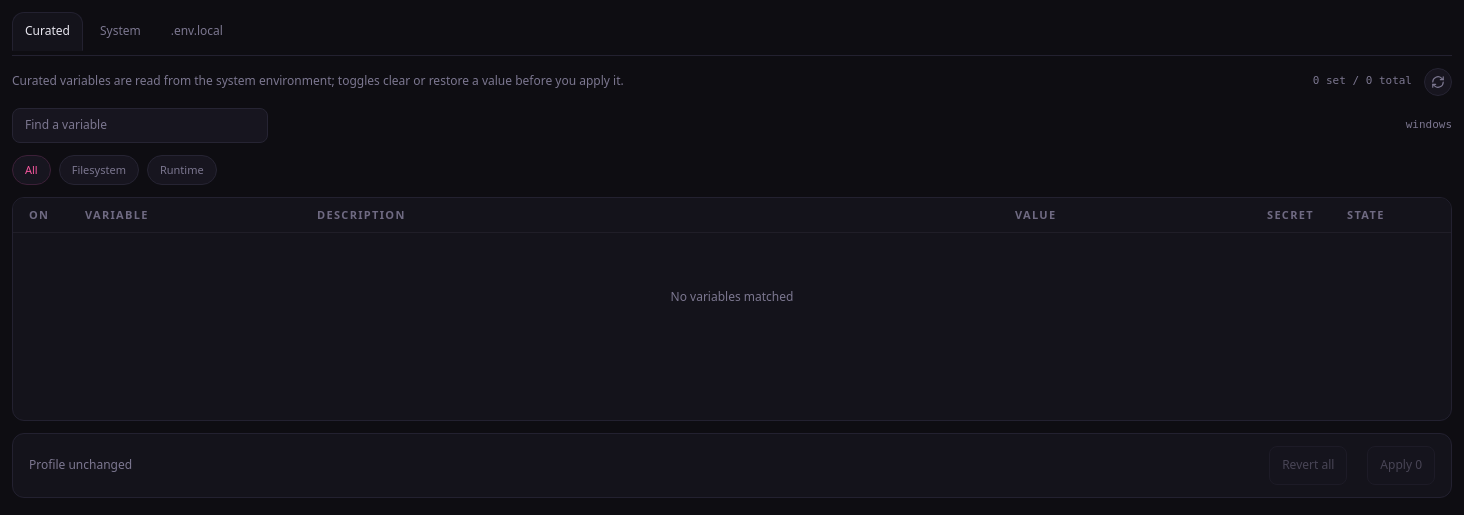
revealing one value › keeps the revealed value out of the query cache
Click the tab ".env.local": click(197, 31) x1=158 y1=12 x2=236 y2=51
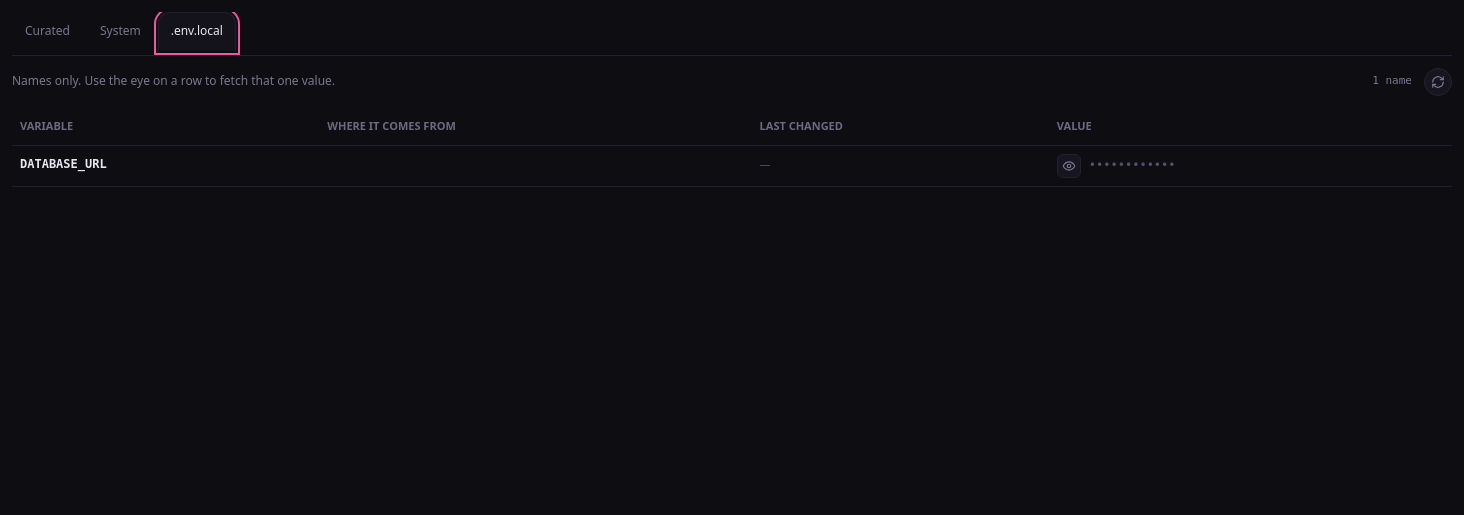
Click the button named "Reveal DATABASE_URL": click(1069, 166) x1=1057 y1=154 x2=1081 y2=178
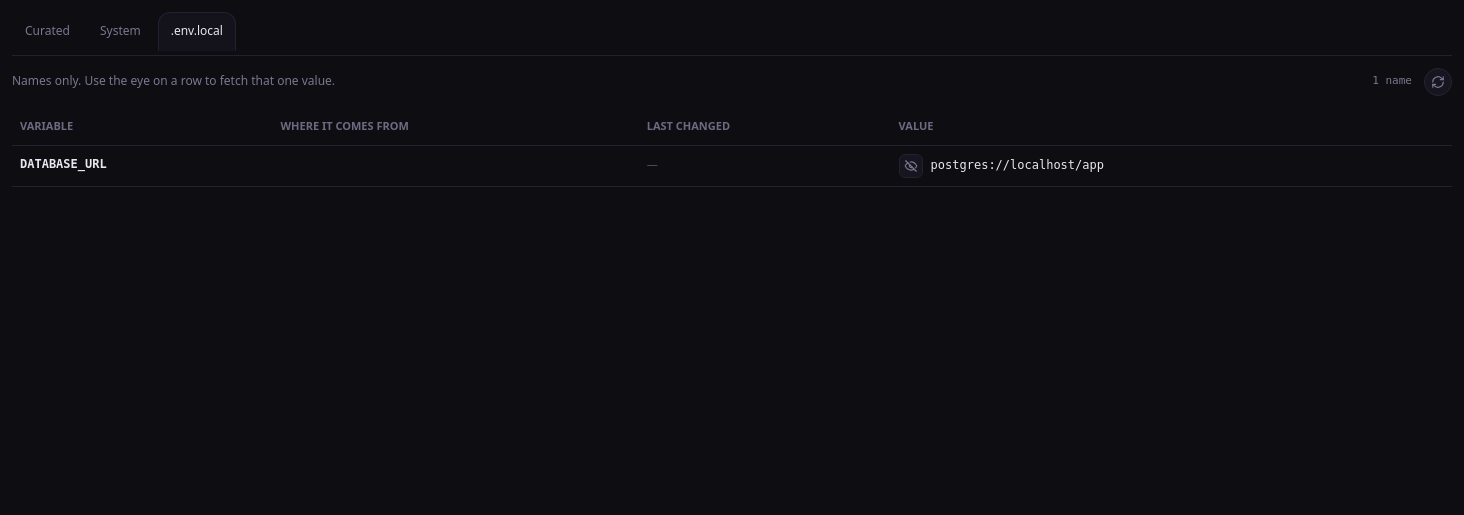
Expected: the text "postgres://localhost/app" is shown, x1=931 y1=155 x2=1104 y2=176
